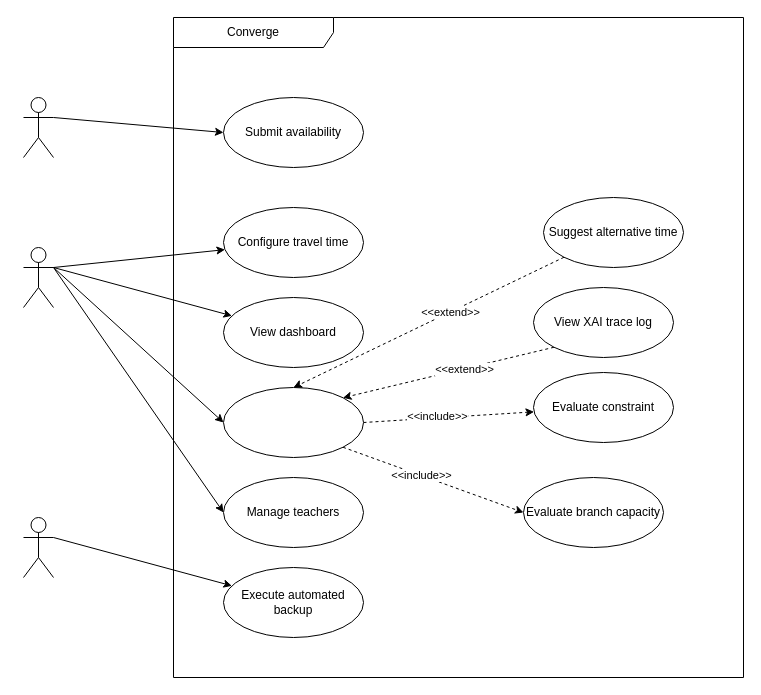
This 761x695 diagram has some shape labels left out. The shapes that lost their labels are listed below. From the top down, each one's box as (x1, y1, x2, y2) in pixels, then its label:
(22, 96, 54, 158): Teacher
(22, 246, 54, 308): Admin
(222, 386, 364, 458): Process booking request
(22, 516, 54, 578): System
